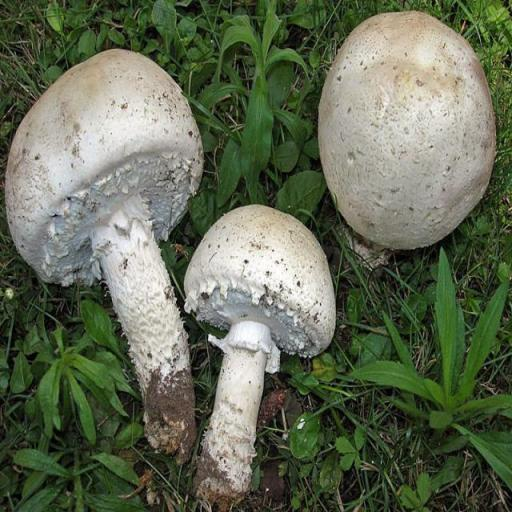mushroom: (4, 48, 206, 456), (188, 202, 337, 504), (322, 10, 496, 255)
